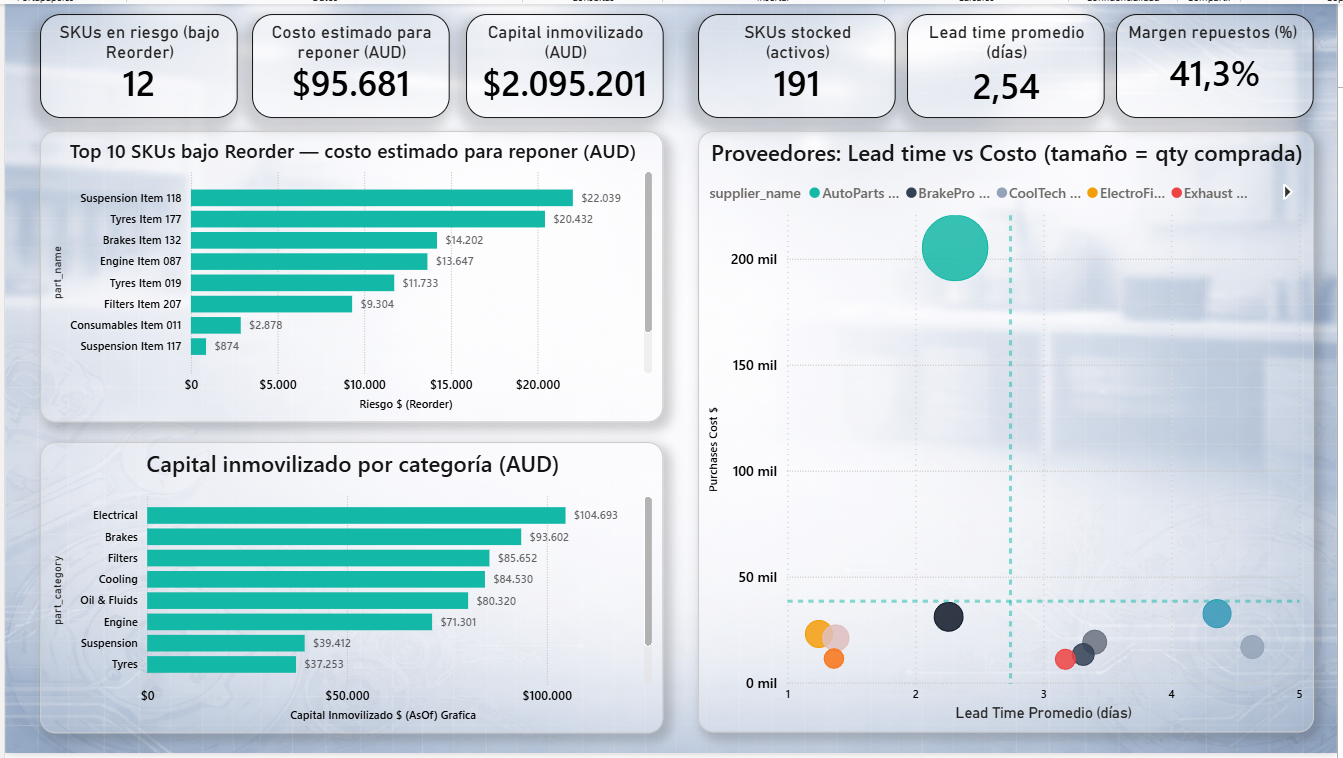

The dashboard page shown, as its layout file describes it:
{"tool":"powerbi","page":{"name":"Fuga #3: Inventario","canvas":[1280,720],"ordinal":3},"visuals":[{"type":"card","title":"Capital inmovilizado (AUD)","fields":{"Values":["Medidas.KPI Capital Inmovilizado $"]},"box":[442.9,10,189.8,99.9],"z":0},{"type":"card","title":"Lead time promedio (días)","fields":{"Values":["Medidas.Lead Time Promedio (días)"]},"box":[867,10,190,100],"z":1000},{"type":"card","title":"Margen repuestos (%)","fields":{"Values":["Medidas.KPI Margen Repuestos %"]},"box":[1068,10,190,100],"z":2000},{"type":"card","title":"SKUs en riesgo (bajo Reorder)","fields":{"Values":["Medidas.SKUs en Riesgo (Reorder)"]},"box":[33.3,10,189.8,99.9],"z":3000},{"type":"card","title":"SKUs stocked (activos)","fields":{"Values":["Medidas.SKUs Stocked"]},"box":[666.1,10,189.8,99.9],"z":5000},{"type":"clusteredBarChart","title":"Capital inmovilizado por categoría (AUD)","fields":{"Category":["PartsTbl.part_category"],"Y":["Medidas.Capital Inmovilizado $ (AsOf) Grafica"]},"box":[33.3,420.7,599.5,279.8],"z":6000},{"type":"scatterChart","title":"Proveedores: Lead time vs Costo (tamaño = qty comprada)","fields":{"X":["Medidas.Lead Time Promedio (días)"],"Y":["Medidas.Purchases Cost $"],"Size":["Medidas.Purchases Qty"],"Series":["SuppliersTbl.supplier_name"]},"box":[666.1,122.1,591.7,578.4],"z":7000},{"type":"card","title":"Costo estimado para reponer (AUD)","fields":{"Values":["Medidas.Riesgo $ (Reorder)"]},"box":[237.6,10,189.8,99.9],"z":8000},{"type":"clusteredBarChart","title":"Top 10 SKUs bajo Reorder — costo estimado para reponer (AUD)","fields":{"Category":["PartsTbl.part_name"],"Y":["Medidas.Riesgo $ (Reorder)"]},"box":[33.3,122.1,599.5,279.8],"z":9000}]}

Visuals, with their boxes in screenshot pixels (x1, y1, x2, y2), scaled from the page's 1280x720 canvas onto the 1343x758 screenshot:
"Capital inmovilizado (AUD)" card: region(465, 11, 664, 116)
"Lead time promedio (días)" card: region(910, 11, 1109, 116)
"Margen repuestos (%)" card: region(1121, 11, 1320, 116)
"SKUs en riesgo (bajo Reorder)" card: region(35, 11, 234, 116)
"SKUs stocked (activos)" card: region(699, 11, 898, 116)
"Capital inmovilizado por categoría (AUD)" clusteredBarChart: region(35, 443, 664, 737)
"Proveedores: Lead time vs Costo (tamaño = qty comprada)" scatterChart: region(699, 129, 1320, 737)
"Costo estimado para reponer (AUD)" card: region(249, 11, 448, 116)
"Top 10 SKUs bajo Reorder — costo estimado para reponer (AUD)" clusteredBarChart: region(35, 129, 664, 423)
